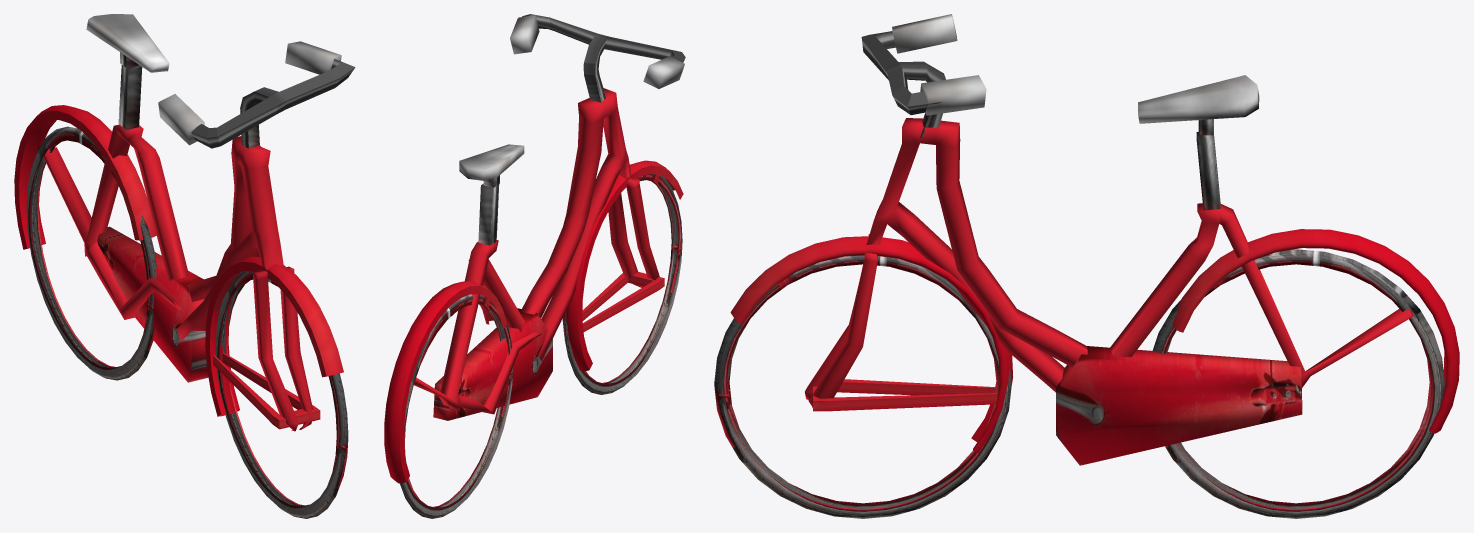
The model's file is bike.glb.
3 renders of one model, left to right at view 1: azimuth 30°, elevation 25°; view 2: azimuth 150°, elevation 25°; view 3: azimuth 270°, elevation 25°, orthographic. The views are drawn at different scales.
Parts seen in each view (by area): view 1: bike; view 2: bike; view 3: bike.
Boxes of the visible parts, x1,y1,x2,y2 form: bike: (14,14,355,518); bike: (384,14,685,518); bike: (714,14,1459,518).
Size of the model in its own units: 2.32 by 5.18 by 7.35.
Materials: 1 (1 with a texture image).
